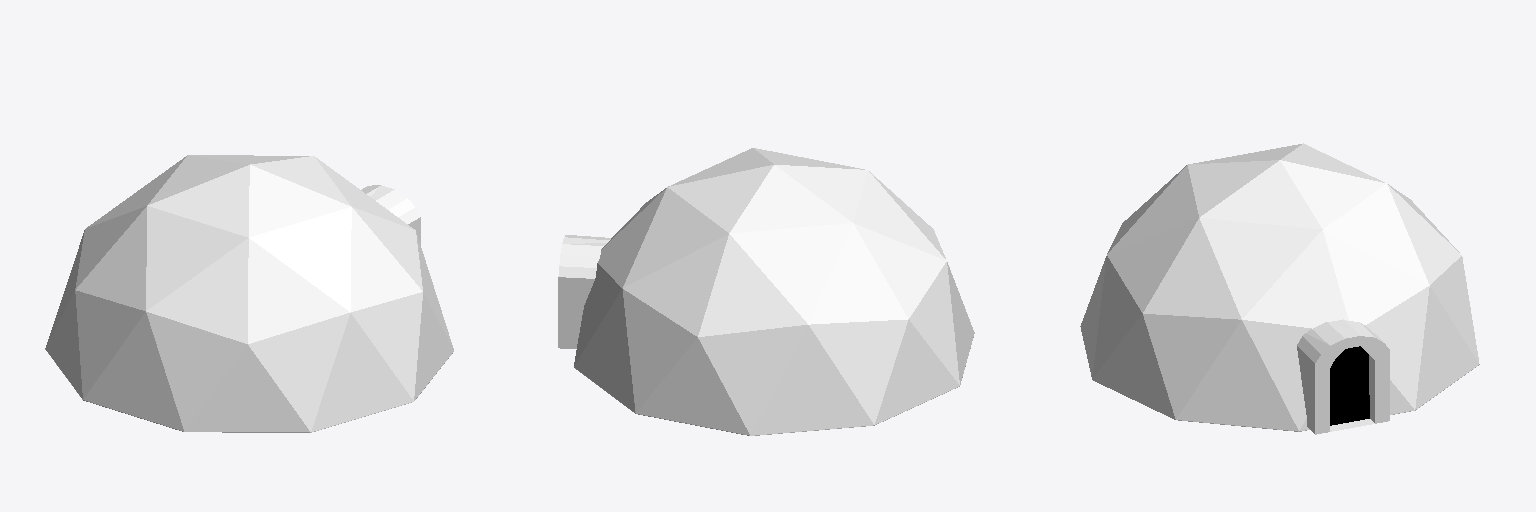
File: iglue.obj
3 renders of one model, left to right at view 1: azimuth 30°, elevation 25°; view 2: azimuth 150°, elevation 25°; view 3: azimuth 270°, elevation 25°, orthographic.
Parts seen in each view (by area): view 1: Cube.001; view 2: Cube.001; view 3: Cube.001, Plane.
Boxes of the visible parts, box(x1,y1,x2,y2) form: Cube.001: box(45, 155, 453, 432); Cube.001: box(558, 148, 974, 435); Cube.001: box(1080, 143, 1479, 434); Plane: box(1330, 346, 1369, 425).
Size of the model in its own units: 2.61 by 1.27 by 2.47.